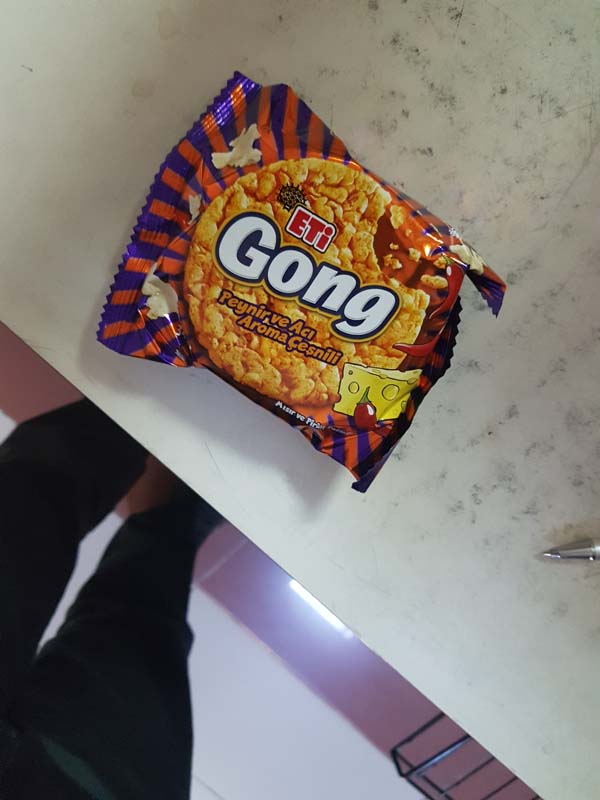etigong: (96, 50, 513, 495)
